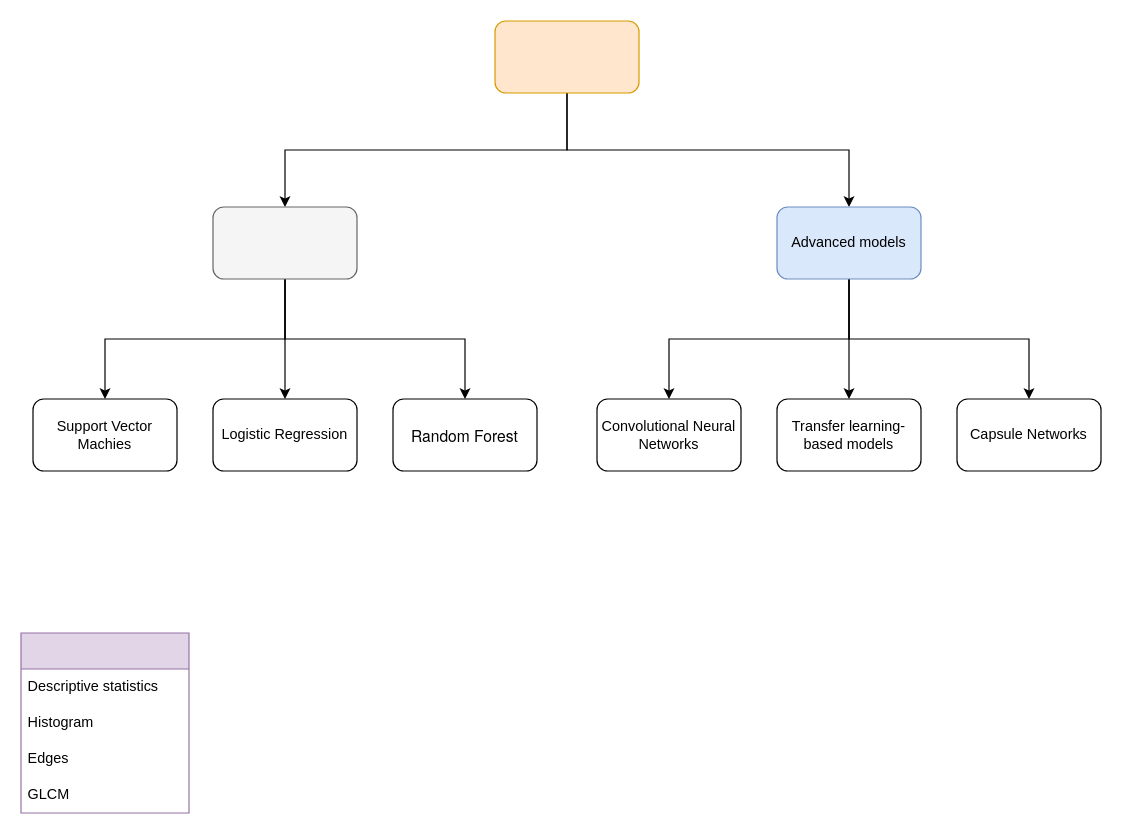
This 1122x834 diagram has some shape labels left out. Here are the shapes that lost their labels. From the top down, the box of each, then its label:
(494, 20, 639, 93): Supervised models
(212, 206, 357, 279): Basic models
(20, 632, 189, 813): Features
